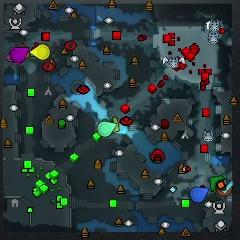p1: (191, 186, 208, 202)
p2: (97, 121, 117, 137)
p3: (10, 46, 29, 63)
p4: (30, 44, 52, 61)
p5: (216, 187, 232, 198)
x1: (6, 47, 18, 66)
x2: (112, 116, 121, 132)
x3: (220, 178, 234, 195)
x4: (210, 176, 224, 189)
x5: (19, 43, 30, 60)
